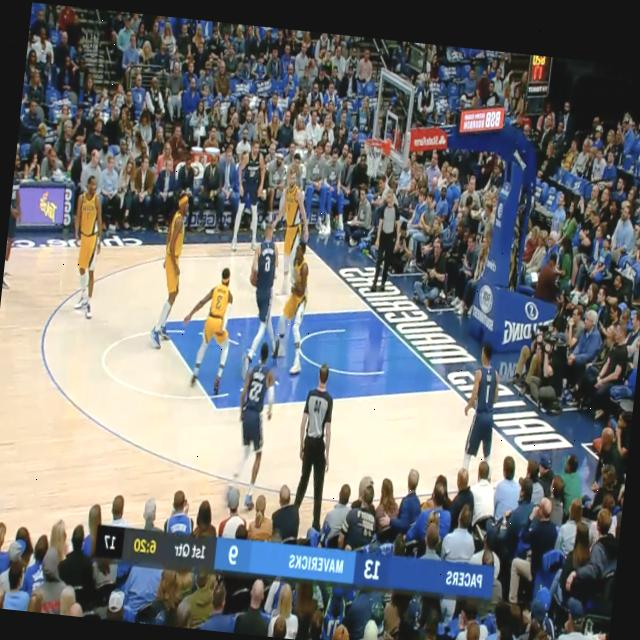no foul: (136, 182, 246, 396), (239, 229, 326, 380), (250, 162, 307, 296)
